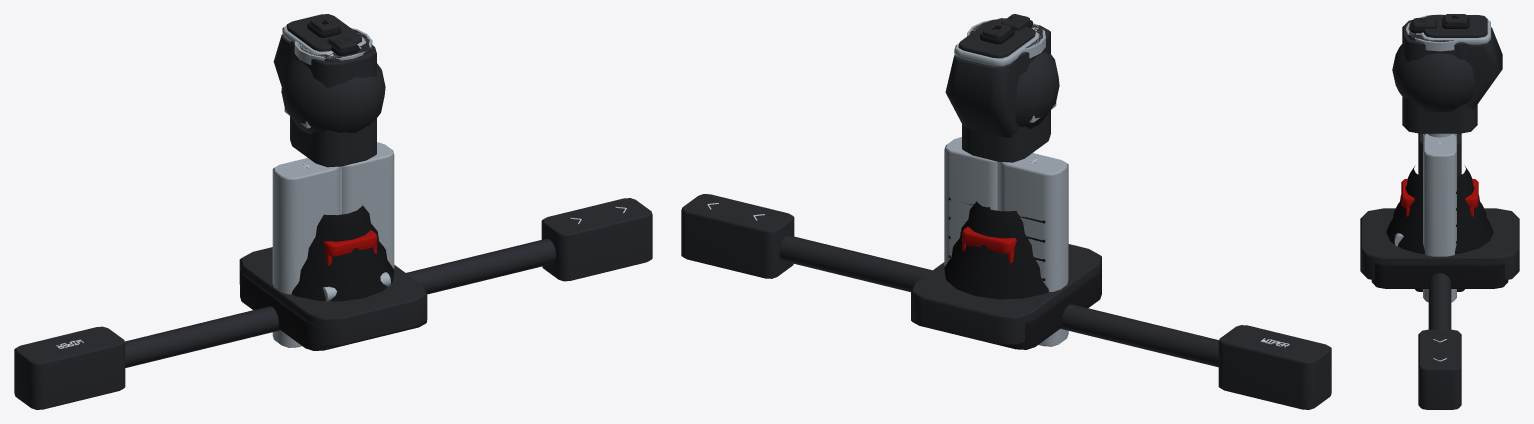
The model's file is cockpit_parts.glb.
The picture shows the model from 3 angles, left to right: view 1: azimuth 30°, elevation 25°; view 2: azimuth 150°, elevation 25°; view 3: azimuth 270°, elevation 25°; orthographic projection. The views are drawn at different scales.
Visible parts, largest first — view 1: ctl_stalk_R, ctl_stalk_L_flash, ctl_shifter_seq, ctl_horn, ctl_paddle_R, ctl_shifter_h, ctl_paddle_L, part_shifter_seq, ctl_shifter_sel, ctl_n2o_cover; view 2: ctl_stalk_R, ctl_stalk_L_flash, ctl_shifter_seq, ctl_horn, ctl_paddle_R, ctl_shifter_sel, ctl_paddle_L, ctl_shifter_h, part_shifter_seq, ctl_n2o_cover; view 3: ctl_shifter_seq, ctl_horn, ctl_stalk_L_flash, ctl_shifter_h, ctl_paddle_L, ctl_shifter_sel, part_shifter_seq, ctl_n2o_cover, ctl_stalk_R, ctl_shifter_seq_ambtn, ctl_shifter_sel_pbtn.
Part boxes in pixels (box(x1,y1,x2,y2)): ctl_stalk_R: box(14, 306, 280, 409); ctl_stalk_L_flash: box(406, 198, 652, 294); ctl_shifter_seq: box(290, 40, 394, 301); ctl_horn: box(239, 247, 427, 346); ctl_paddle_R: box(272, 158, 340, 347); ctl_shifter_h: box(281, 28, 385, 134); ctl_paddle_L: box(342, 142, 394, 268); part_shifter_seq: box(240, 270, 426, 350); ctl_shifter_sel: box(273, 14, 365, 86); ctl_n2o_cover: box(323, 230, 377, 265); ctl_stalk_R: box(1060, 304, 1331, 409); ctl_stalk_L_flash: box(681, 194, 932, 292); ctl_shifter_seq: box(944, 18, 1050, 299); ctl_horn: box(911, 244, 1101, 345); ctl_paddle_R: box(999, 153, 1068, 346); ctl_shifter_sel: box(945, 20, 1039, 137); ctl_paddle_L: box(944, 137, 997, 265); ctl_shifter_h: box(967, 19, 1059, 128); part_shifter_seq: box(911, 268, 1101, 349); ctl_n2o_cover: box(962, 226, 1016, 262); ctl_shifter_seq: box(1386, 20, 1493, 253); ctl_horn: box(1360, 208, 1519, 279); ctl_stalk_L_flash: box(1418, 273, 1461, 409); ctl_shifter_h: box(1392, 14, 1475, 112); ctl_paddle_L: box(1423, 133, 1456, 302); ctl_shifter_sel: box(1421, 15, 1502, 109); part_shifter_seq: box(1371, 263, 1508, 288); ctl_n2o_cover: box(1401, 178, 1478, 216); ctl_stalk_R: box(1418, 133, 1461, 176); ctl_shifter_seq_ambtn: box(1412, 17, 1435, 28); ctl_shifter_sel_pbtn: box(1444, 14, 1467, 24).
Size of the model in its own units: 0.276 by 0.1289 by 0.07.
